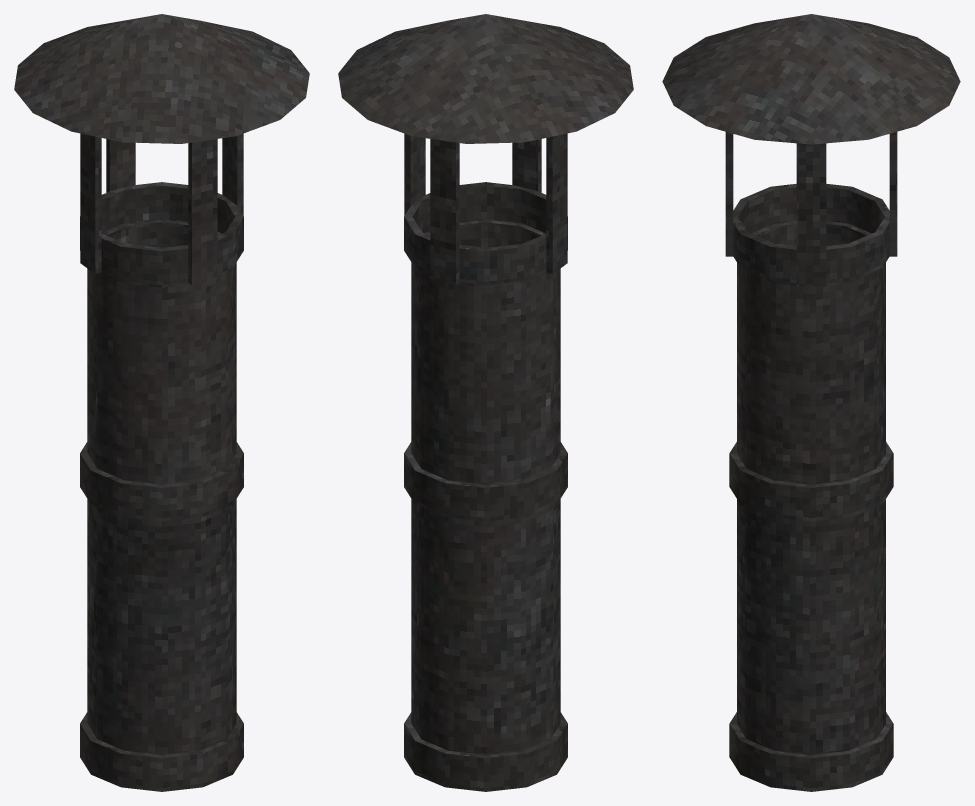
The model's file is chimney_a_1.glb.
The picture shows the model from 3 angles, left to right: view 1: azimuth 30°, elevation 25°; view 2: azimuth 150°, elevation 25°; view 3: azimuth 270°, elevation 25°; orthographic projection.
Parts seen in each view (by area): view 1: chimney_a_1; view 2: chimney_a_1; view 3: chimney_a_1.
Boxes of the visible parts, x1=… form: chimney_a_1: x1=14, y1=14, x2=309, y2=791; chimney_a_1: x1=338, y1=14, x2=633, y2=791; chimney_a_1: x1=662, y1=14, x2=960, y2=791.
Bounding box in the file's own units: 0.4 × 1.1 × 0.4.
Materials: 1 (1 with a texture image).
